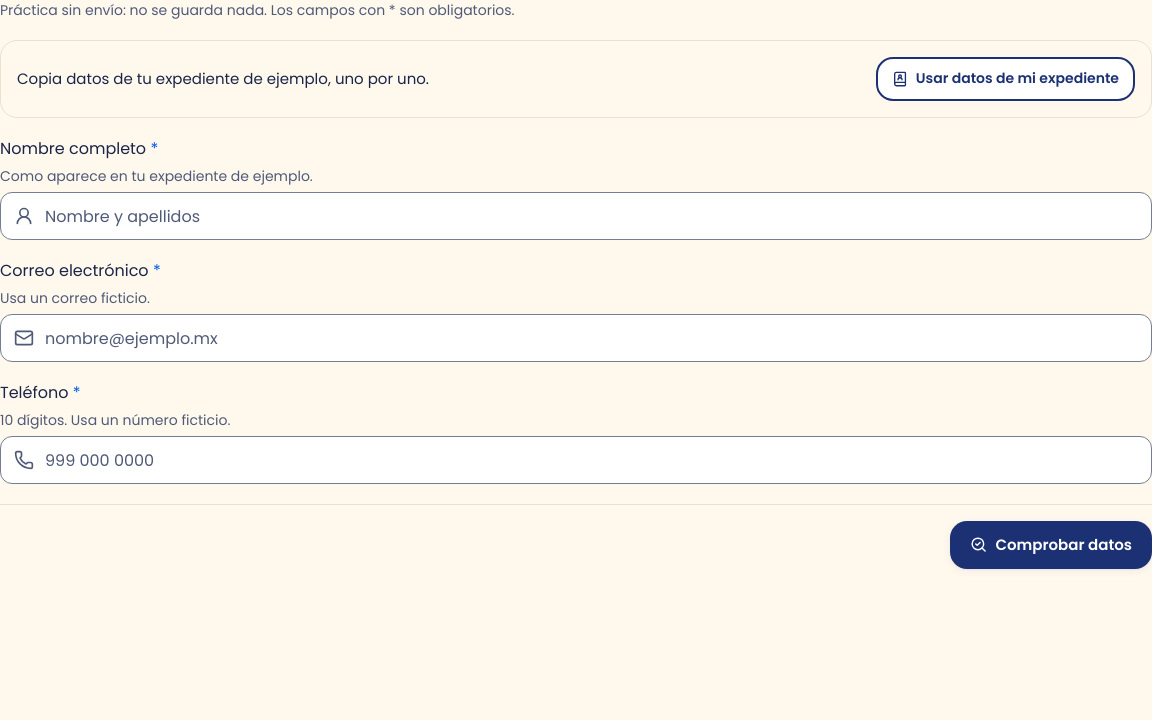
PracticaReutilizacion › no copia nada por omisión y sólo copia los datos que se confirman uno por uno
Click the button "Usar datos de mi expediente" at (1005,79), box x1=876 y1=57 x2=1135 y2=101
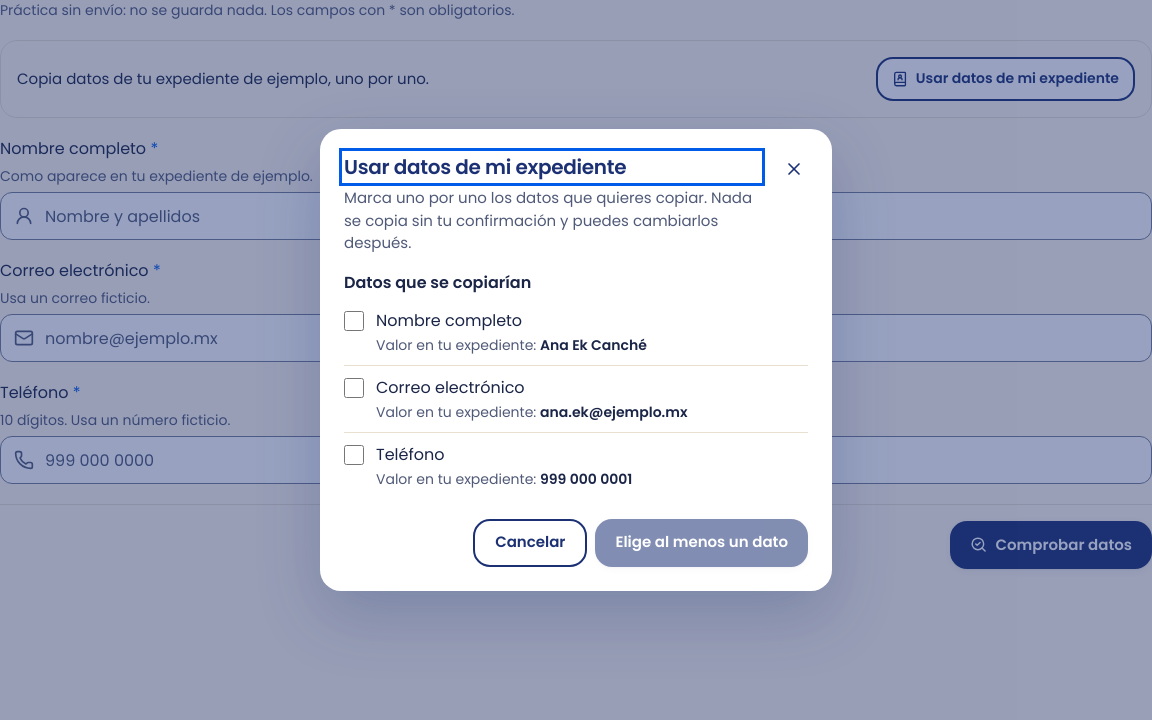
Check: the checkbox labelled "Nombre completo" is not checked, box x1=344 y1=311 x2=364 y2=331
Check: the checkbox labelled "Correo electrónico" is not checked, box x1=344 y1=378 x2=364 y2=398
Check: the checkbox labelled "Teléfono" is not checked
Click the checkbox labelled "Teléfono" at (354,455), box x1=344 y1=445 x2=364 y2=465
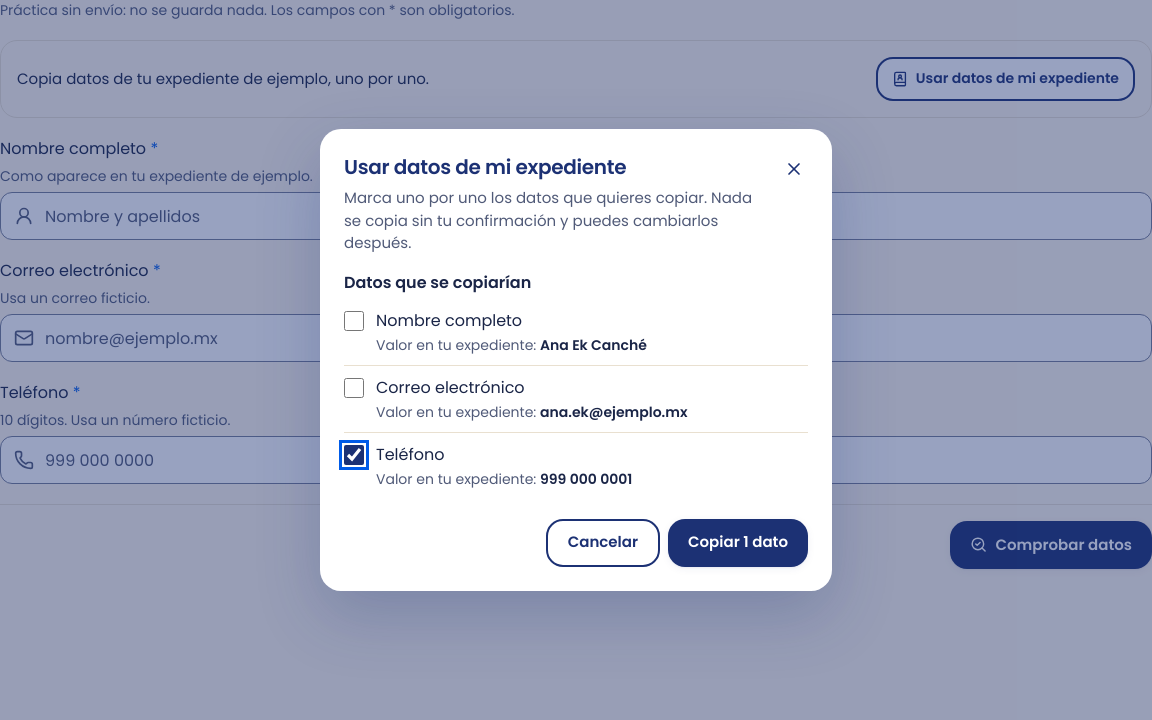
Click the button "Copiar 1 dato" at (738,543), box x1=668 y1=519 x2=808 y2=567
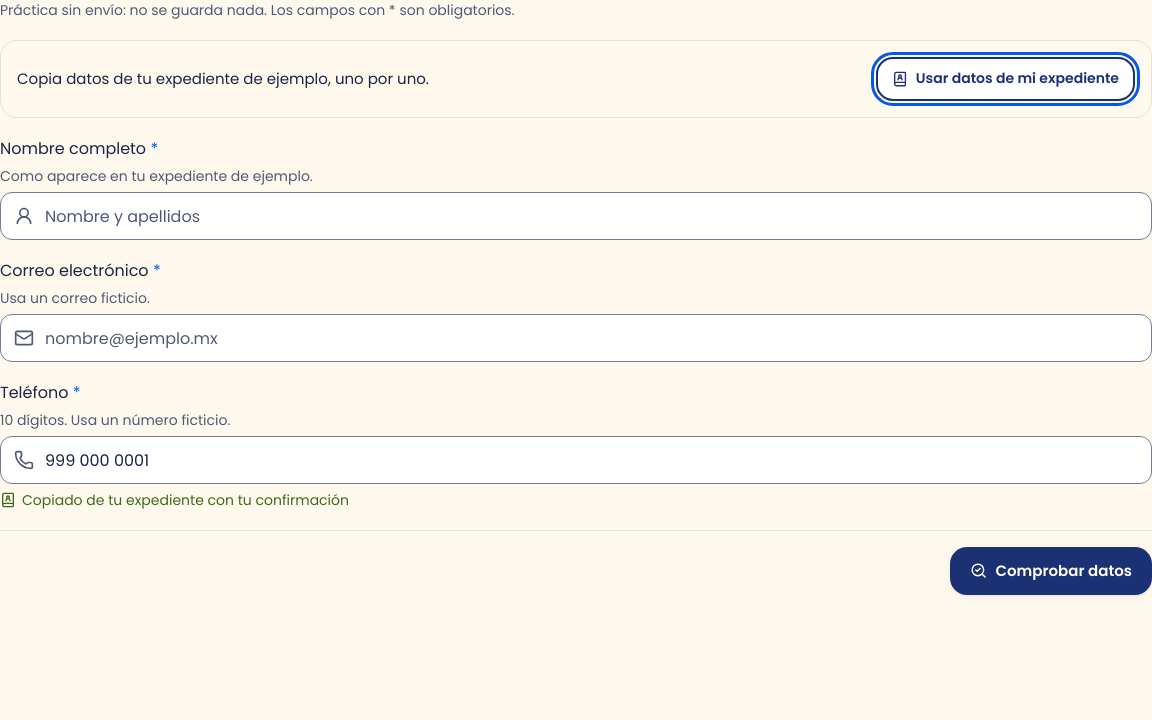
Check: the field labelled "Nombre completo *" is empty, box x1=0 y1=192 x2=1151 y2=240
Check: the field labelled "Teléfono *" holds "999 000 0001", box x1=0 y1=436 x2=1151 y2=484
Check: the text "Copiado de tu expediente con tu confirmación" is shown, box x1=0 y1=490 x2=349 y2=510
